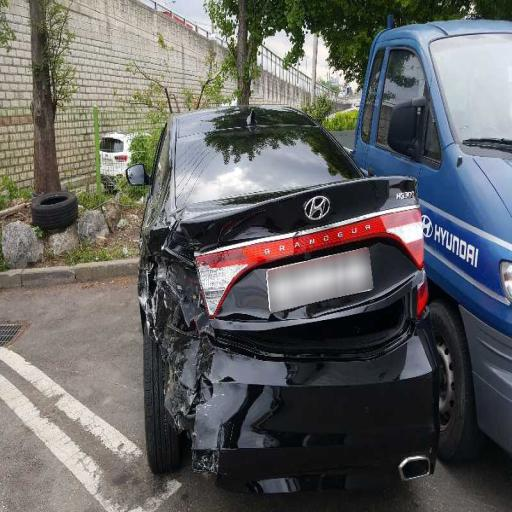broken: (100, 150, 296, 482)
